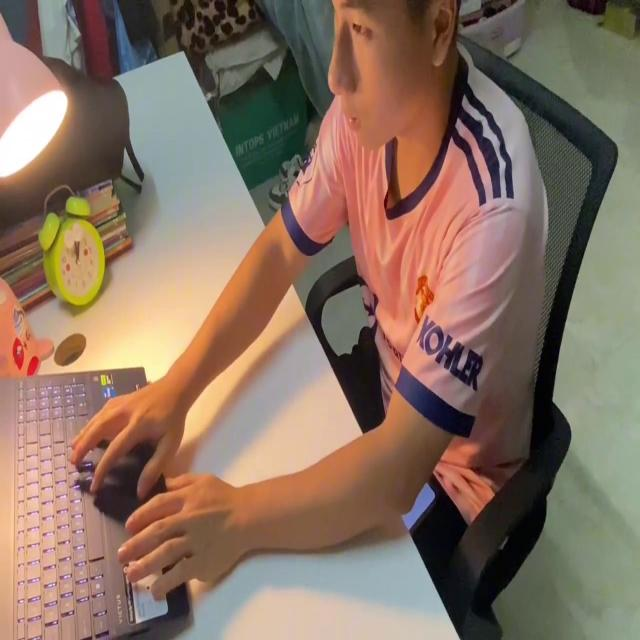laptop: (0, 360, 193, 634)
student: (72, 0, 546, 564)
